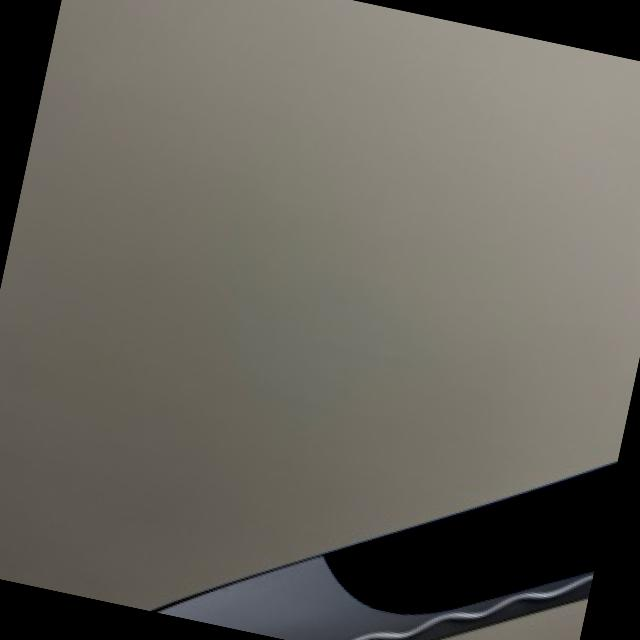healthy: (154, 461, 615, 640)
